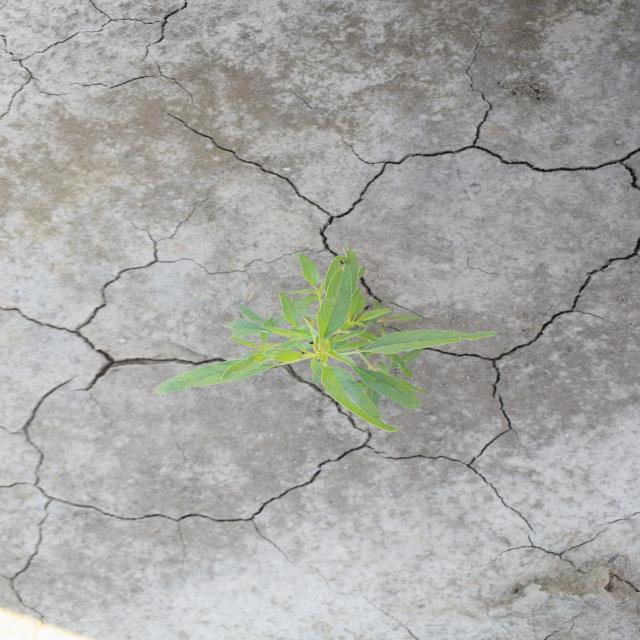Waterhemp: (151, 246, 500, 435)
